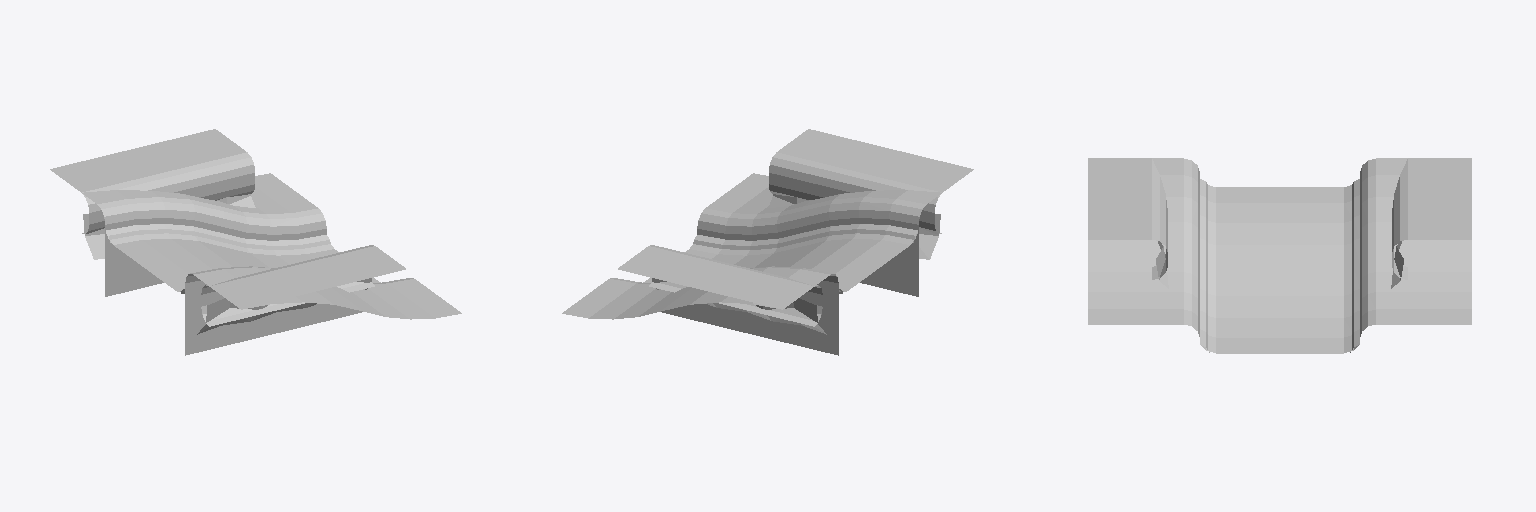
File: Track_Cliff_Incline_Striped_1_Tall_Double.obj
The picture shows the model from 3 angles: view 1: azimuth 30°, elevation 25°; view 2: azimuth 150°, elevation 25°; view 3: azimuth 270°, elevation 25°; orthographic projection.
Parts seen in each view (by area): view 1: Grass, Dirt, Rock, Raceline_Color_2, Raceline_Color_1; view 2: Grass, Dirt, Rock, Raceline_Color_2, Raceline_Color_1; view 3: Grass, Dirt, Raceline_Color_1, Raceline_Color_2, Rock.
Part boxes in pixels (x1,y1,x2,y2): Grass: (50,129,461,355); Dirt: (106,233,380,291); Rock: (83,194,371,334); Raceline_Color_2: (106,224,301,293); Raceline_Color_1: (135,224,330,249); Grass: (562,129,973,355); Dirt: (643,233,917,291); Rock: (652,194,940,334); Raceline_Color_2: (722,224,917,293); Raceline_Color_1: (693,224,888,249); Grass: (1088,158,1471,336); Dirt: (1201,185,1358,353); Raceline_Color_1: (1200,195,1359,352); Raceline_Color_2: (1200,179,1359,333); Rock: (1156,241,1403,288).
Bounding box in the file's own units: 4 × 1.5 × 6.